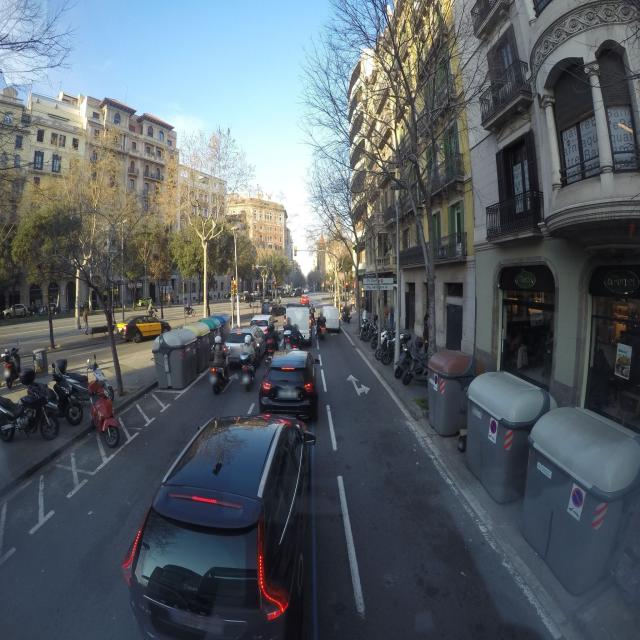forb_stopping: (571, 487, 584, 508), (490, 419, 497, 434)
